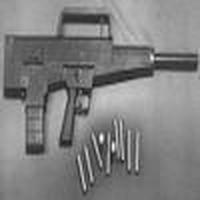gun: (5, 7, 200, 158)
